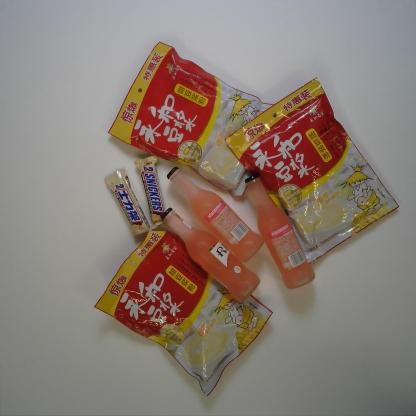Alcohol: (165, 166, 264, 264), (161, 207, 260, 304), (244, 172, 317, 290)
Chocolate: (105, 168, 153, 238), (134, 156, 170, 230)
Instant Drink: (225, 77, 400, 264), (93, 218, 272, 398), (107, 41, 276, 197)
